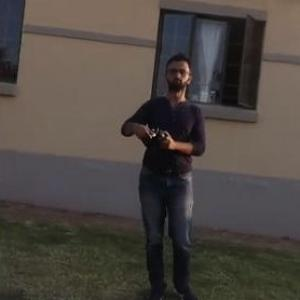follow: (116, 51, 212, 299)
